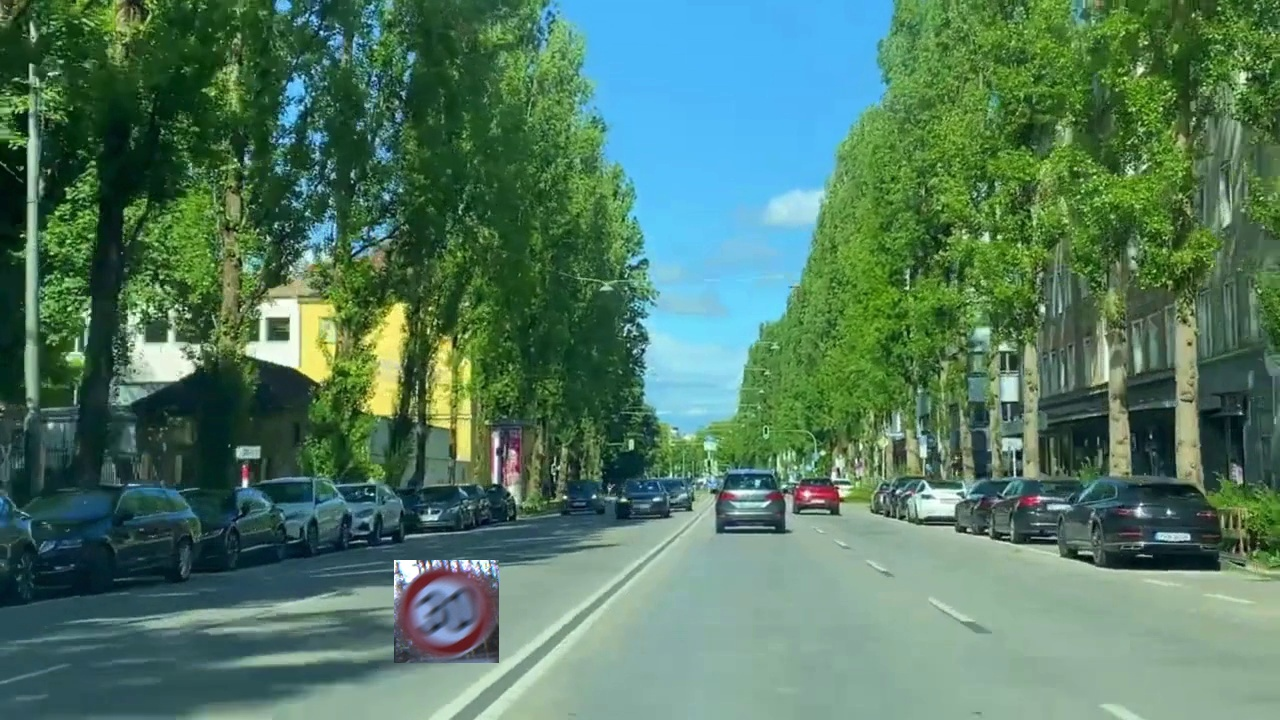Speed 30: (394, 560, 499, 663)
